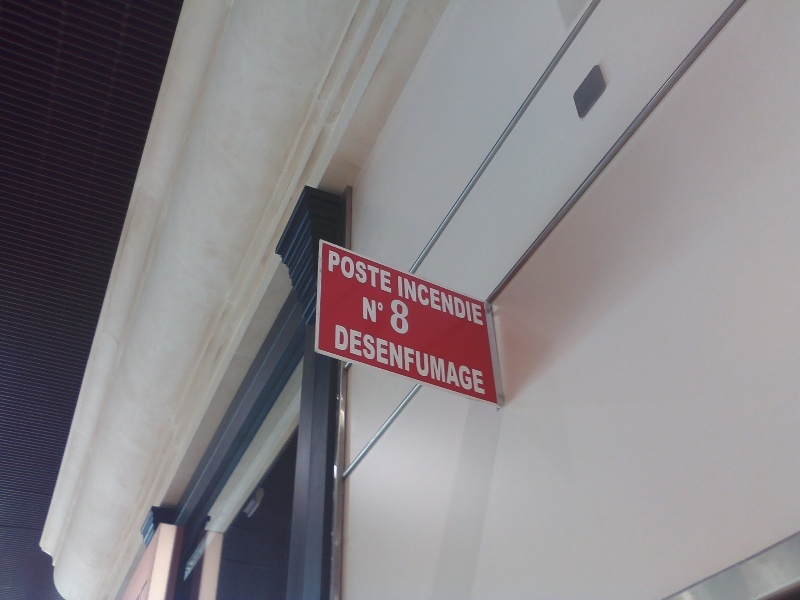text: (337, 324, 352, 396), (353, 324, 368, 396), (369, 324, 384, 396), (385, 324, 400, 396), (401, 324, 416, 396), (417, 324, 432, 396), (433, 324, 448, 396), (449, 324, 464, 396), (465, 324, 480, 396), (401, 276, 416, 327), (417, 276, 432, 327), (433, 276, 448, 327), (449, 276, 464, 327), (465, 276, 480, 327), (337, 250, 352, 294), (353, 250, 368, 294), (369, 250, 384, 294), (369, 296, 384, 325), (390, 297, 400, 338), (401, 297, 410, 338), (481, 324, 486, 396), (329, 250, 336, 294), (385, 250, 392, 294), (397, 276, 400, 327), (481, 276, 484, 327), (363, 296, 368, 325), (335, 324, 336, 396)
